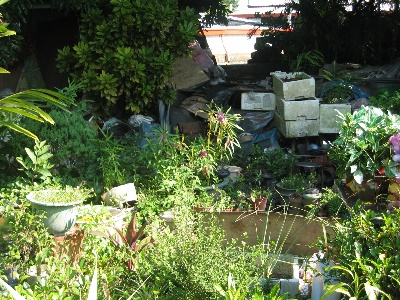bowl: (101, 182, 138, 206)
plastic_bag: (192, 43, 214, 69)
styrofoam: (271, 70, 316, 101), (275, 112, 320, 138), (318, 103, 352, 133), (276, 97, 319, 120), (240, 91, 276, 110)
